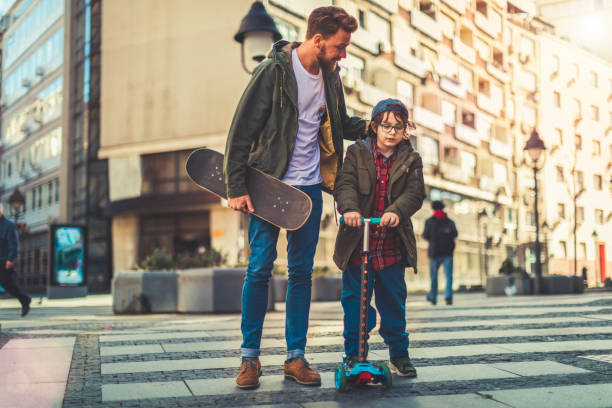yaya: (212, 0, 344, 395), (334, 89, 436, 407)
